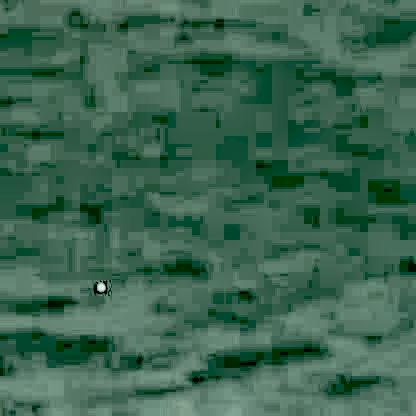golfball: (92, 280, 105, 291)
